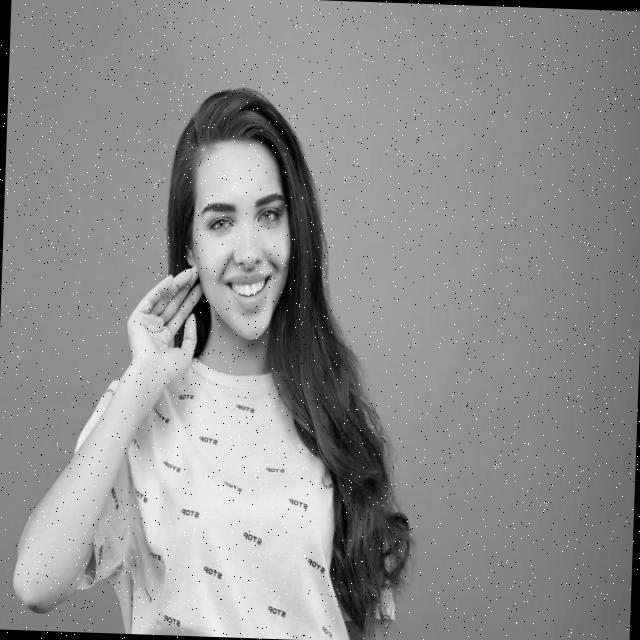Happiness: (184, 135, 298, 344)
